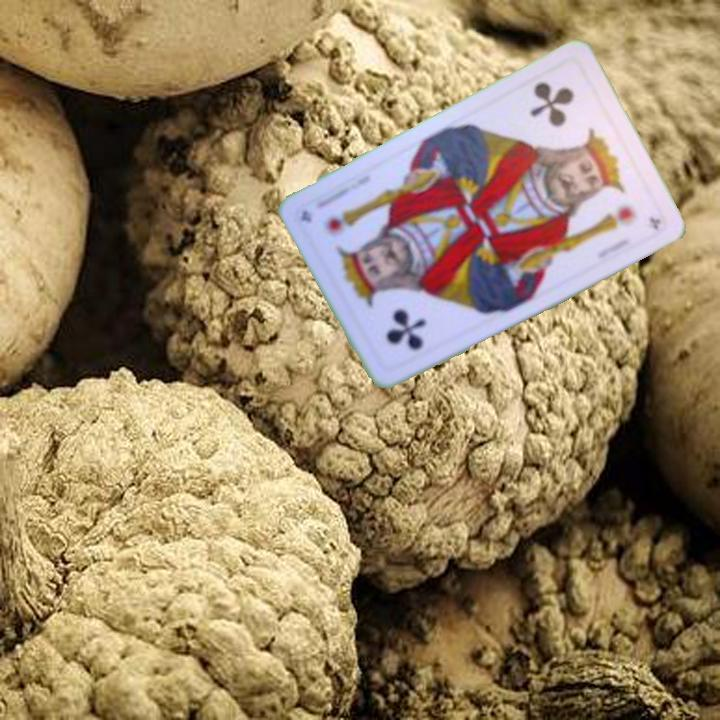c_k.png: (340, 251, 461, 378), (503, 56, 624, 182)
